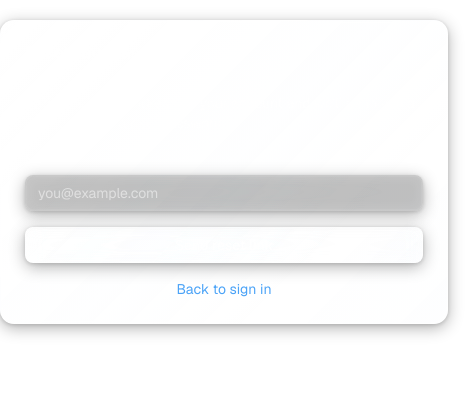
Test: ForgotPasswordPage › shows a rate limit message when too many requests are made
The width and height of the screenshot is (473, 407).
Type "maker@example.com" into the field labelled "Email" at (224, 193), box [25, 175, 423, 211]
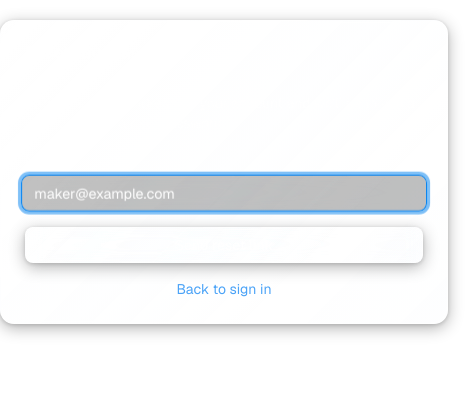
Click the button "Send reset link" at (224, 245), box [25, 227, 423, 263]
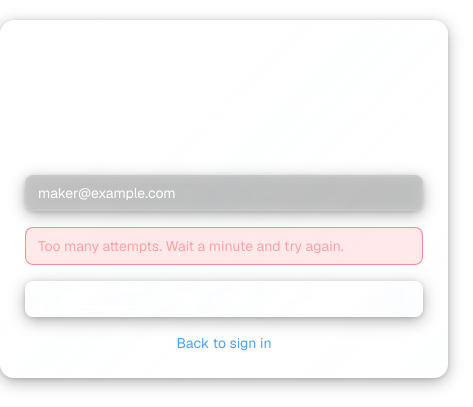
Expected: the message shows "Too many", [38, 237, 344, 255]
